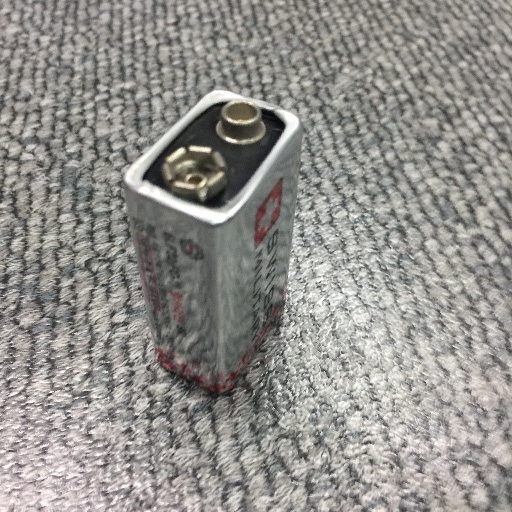Battery_3: (106, 70, 321, 400)
